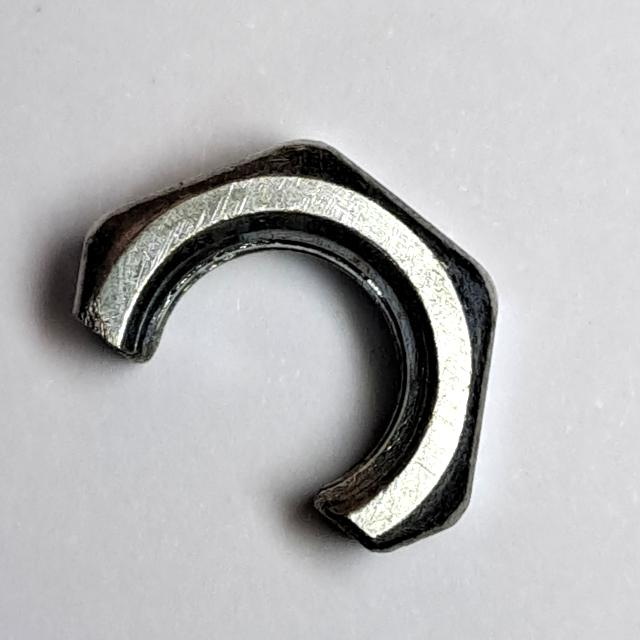Fracture: (62, 124, 513, 573)
